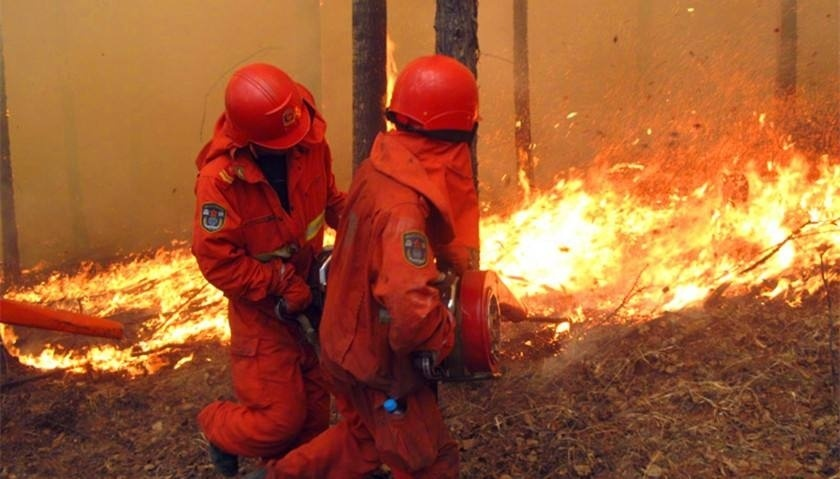fire: (474, 106, 840, 326), (0, 239, 235, 374), (305, 216, 340, 247)
